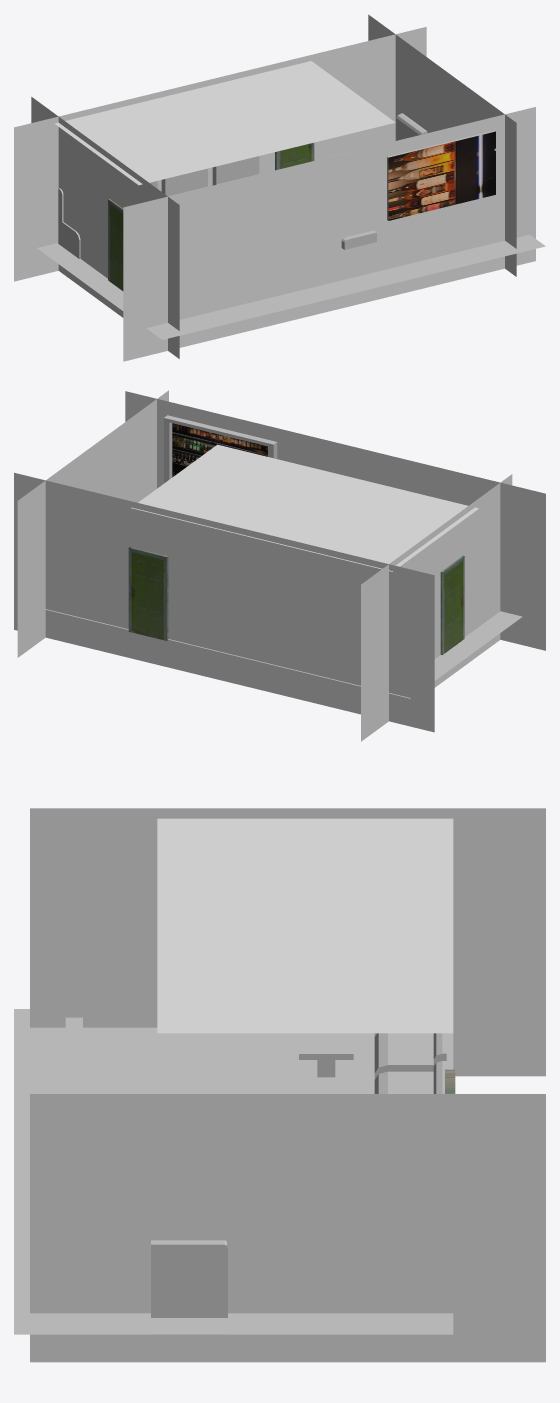
File: NY_Skele_Bar.fbx
3 renders of one model, top to bottom at view 1: azimuth 30°, elevation 25°; view 2: azimuth 150°, elevation 25°; view 3: azimuth 270°, elevation 25°, orthographic. The views are drawn at different scales.
Parts seen in each view (by area): view 1: Wall.001, Ceiling, Wall, Wall.003, Floor, Wall.002, Cube, Door, Chair.004, Chair.003, Chair.001, Door.001 (+2 smaller); view 2: Wall, Ceiling, Wall.001, Wall.003, Wall.002, Door.001, Cube, Floor, Door; view 3: Wall.002, Ceiling, Wall.003, Floor, Bar, Chair.002, Table, Chair.003, Cube.
Boxes of the visible parts, bbox=[...] form: Wall.001: bbox=[123, 107, 535, 361]; Ceiling: bbox=[55, 61, 395, 185]; Wall: bbox=[14, 27, 426, 281]; Wall.003: bbox=[31, 97, 179, 358]; Floor: bbox=[37, 234, 545, 339]; Wall.002: bbox=[368, 14, 516, 276]; Cube: bbox=[387, 130, 495, 220]; Door: bbox=[108, 198, 123, 290]; Chair.004: bbox=[212, 156, 259, 185]; Chair.003: bbox=[161, 168, 207, 196]; Chair.001: bbox=[58, 188, 80, 258]; Door.001: bbox=[275, 142, 314, 170]; Wall: bbox=[14, 472, 434, 732]; Ceiling: bbox=[131, 444, 478, 571]; Wall.001: bbox=[125, 391, 545, 650]; Wall.003: bbox=[361, 474, 512, 741]; Wall.002: bbox=[17, 390, 168, 657]; Door.001: bbox=[128, 547, 168, 640]; Cube: bbox=[164, 415, 277, 482]; Floor: bbox=[45, 609, 522, 698]; Door: bbox=[440, 555, 464, 655]; Wall.002: bbox=[30, 1094, 545, 1362]; Ceiling: bbox=[157, 818, 453, 1033]; Wall.003: bbox=[30, 808, 545, 1076]; Floor: bbox=[14, 1009, 453, 1334]; Bar: bbox=[151, 1240, 227, 1334]; Chair.002: bbox=[374, 1033, 433, 1079]; Table: bbox=[299, 1033, 353, 1077]; Chair.003: bbox=[374, 1033, 446, 1093]; Cube: bbox=[65, 1017, 82, 1093].
Size of the model in its own units: 806 by 288 by 518.
